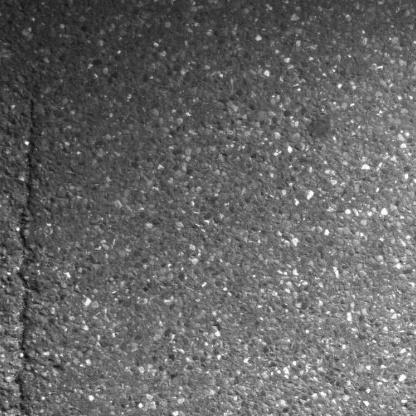Cracks: (4, 95, 43, 416)
